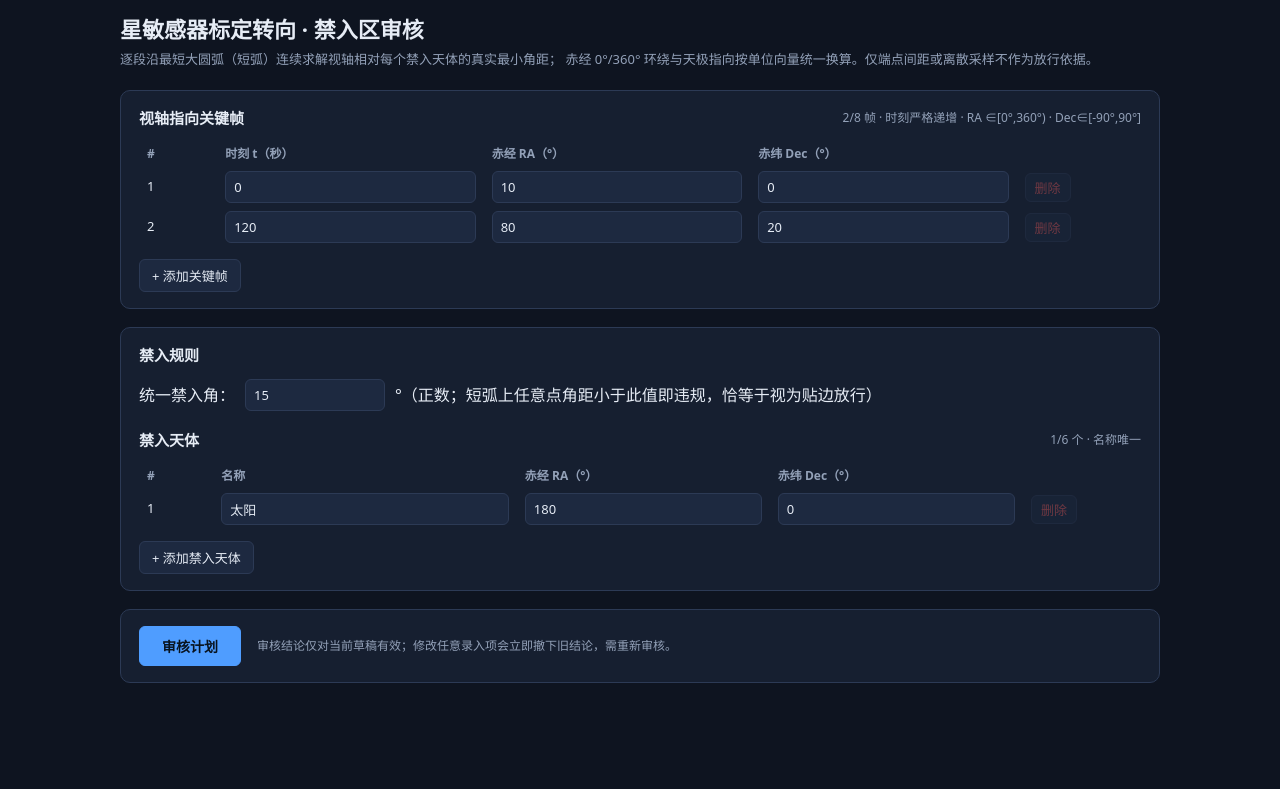
Test: App：录入与审核流程 › 非法输入：审核展示校验错误而非几何结论
Replace the text in the field named "关键帧 2 时刻" with "0" at (350, 227), box x1=225 y1=211 x2=476 y2=243
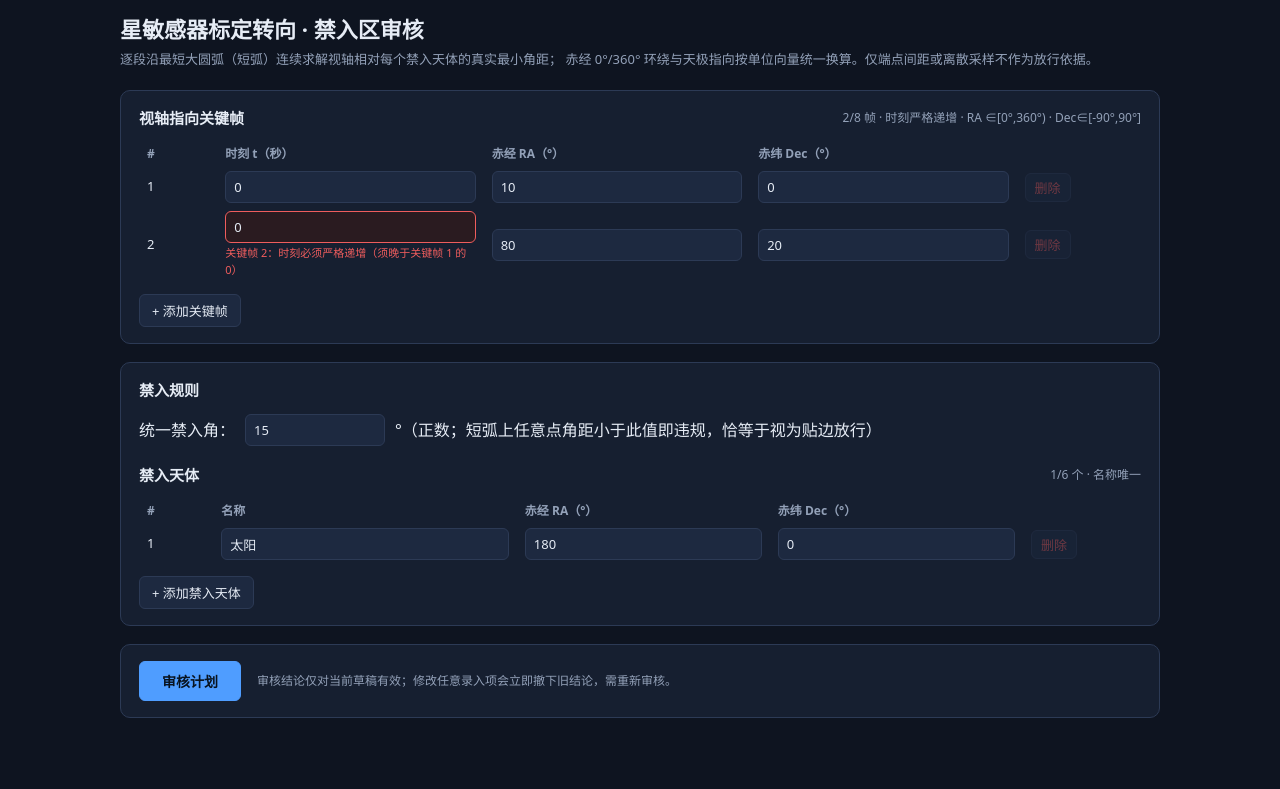
Replace the text in the field with test id "exclusion-angle" with "-3" at (315, 430), box x1=245 y1=414 x2=385 y2=446
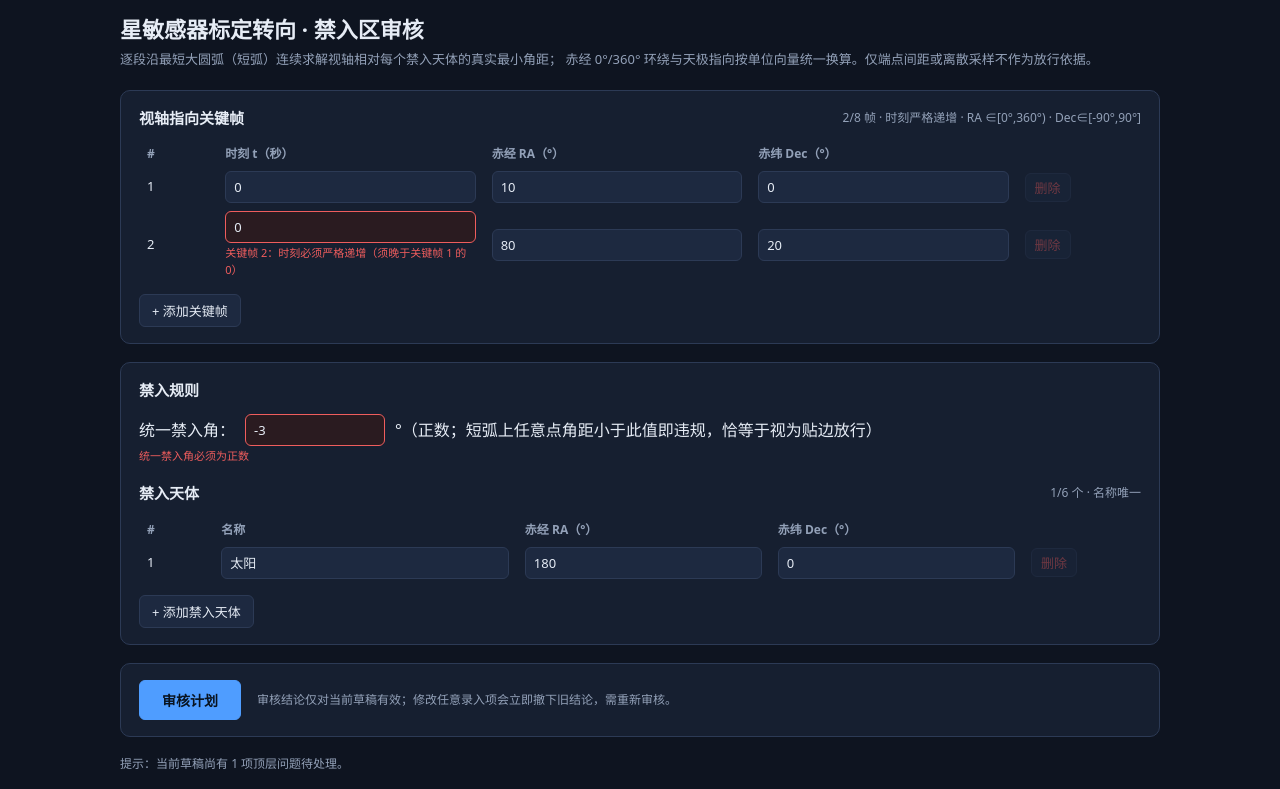
Click the button with test id "audit-button" at (190, 700), box x1=139 y1=680 x2=241 y2=720
(page scrolled)
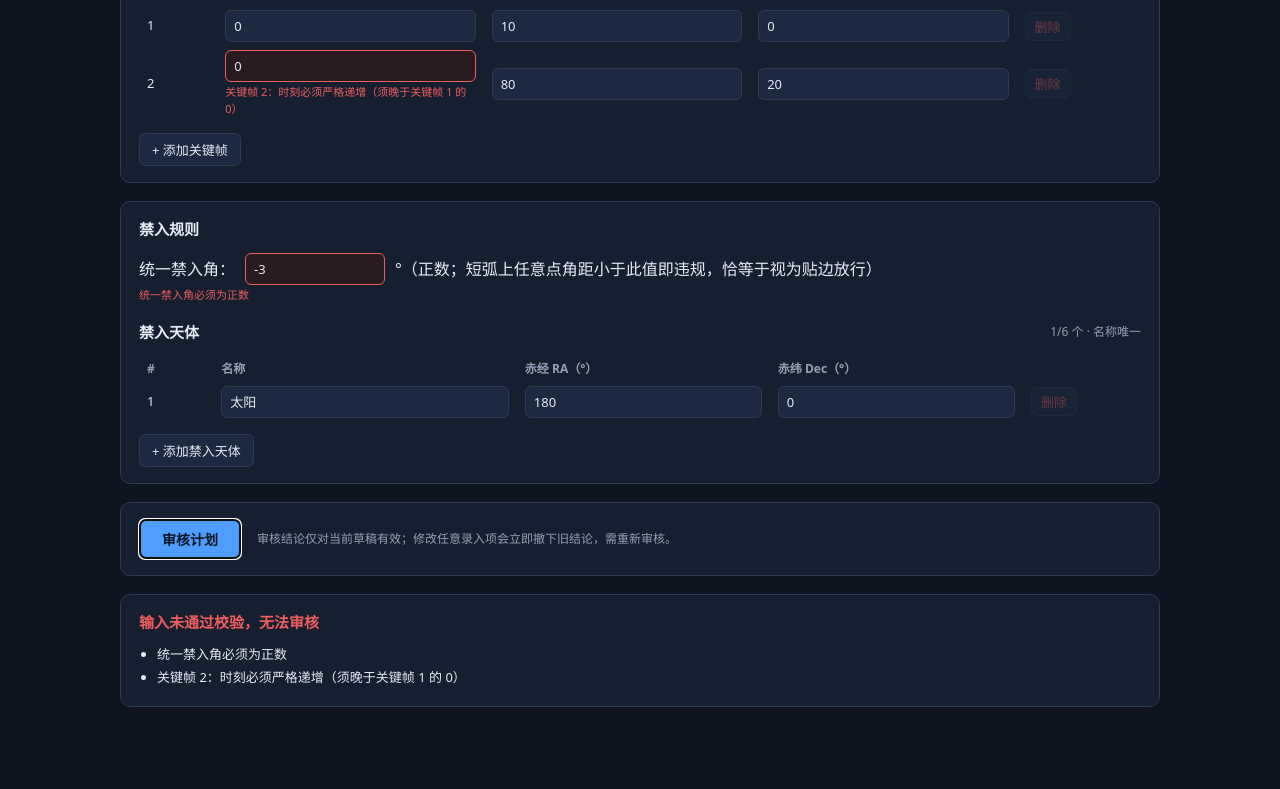
Now the element with test id "audit-errors" shows "严格递增", box x1=157 y1=668 x2=466 y2=686
Now the element with test id "audit-errors" shows "正数", box x1=120 y1=594 x2=1160 y2=707
